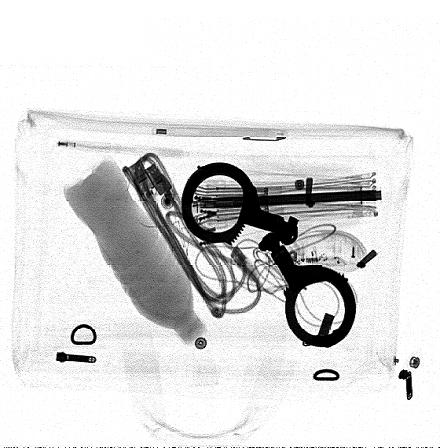HandCuffs: (181, 161, 356, 347)
